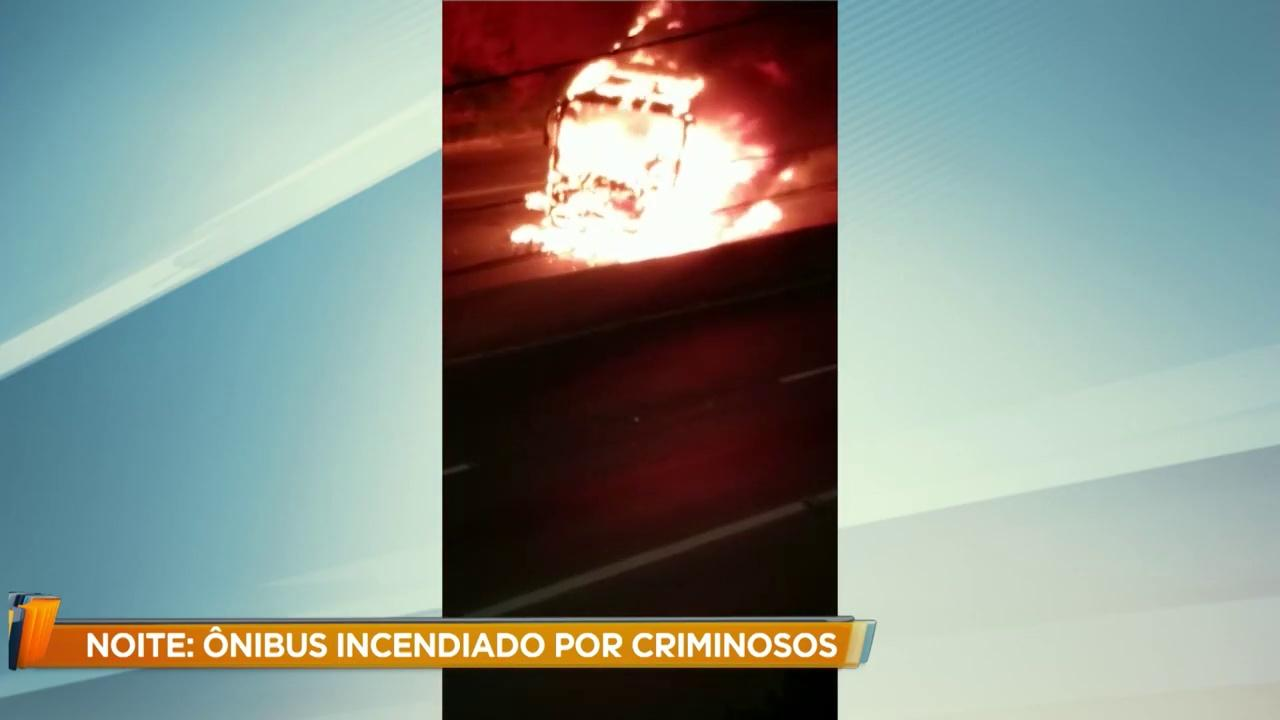fire: (522, 26, 796, 268)
